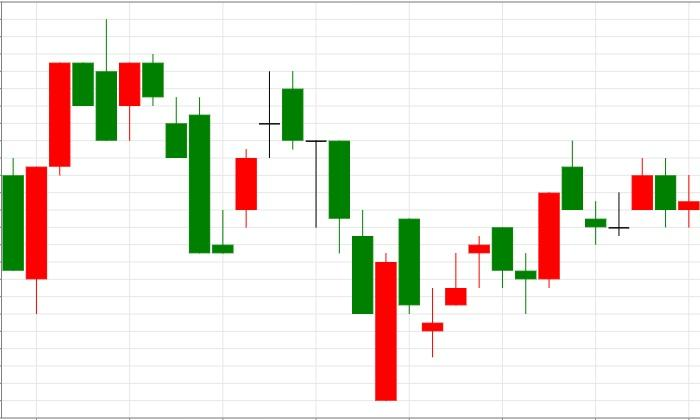bearish_engulfing_fall: (421, 227, 513, 357), (584, 157, 677, 245)
